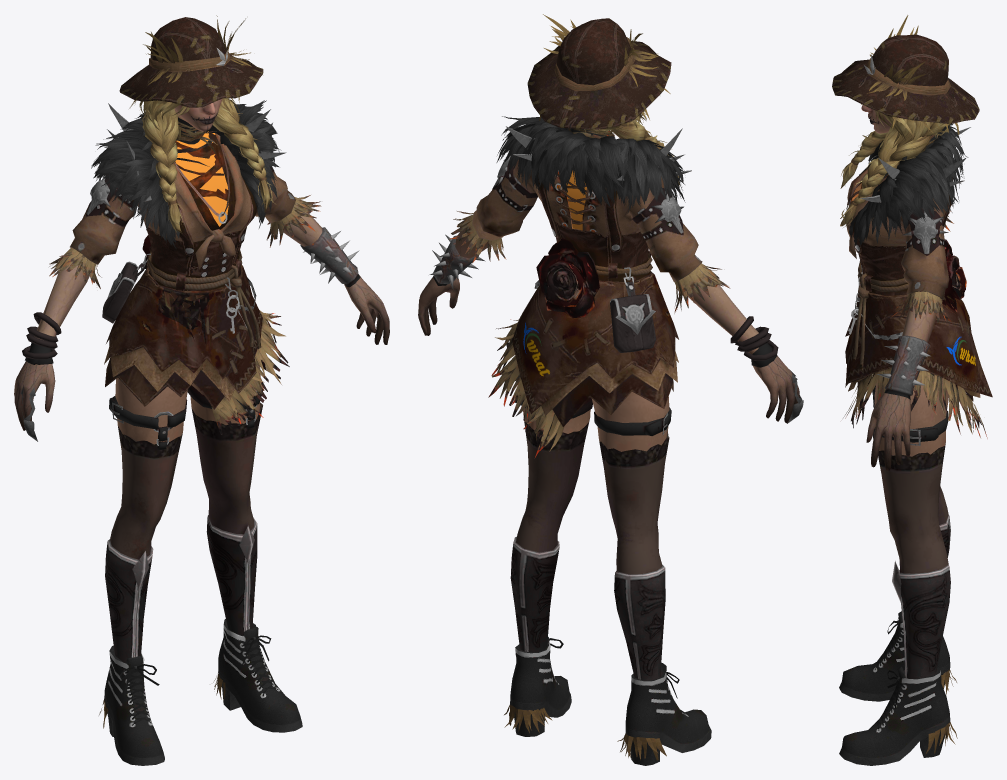
Rendered from Scarecrow Female.obj.
3 renders of one model, left to right at view 1: azimuth 30°, elevation 25°; view 2: azimuth 150°, elevation 25°; view 3: azimuth 270°, elevation 25°, orthographic. The views are drawn at different scales.
Visible parts, largest first — view 1: Female_Lobby_Bottom_Cos_Scarecrow, Female_Lobby_Top_Cos_Scarecrow, Female_Lobby_Hair_Cos_Scarecrow, Female_Lobby_Shoe_Cos_Scarecrow, Female_Lobby_Head_Sc_PartyGirl; view 2: Female_Lobby_Bottom_Cos_Scarecrow, Female_Lobby_Top_Cos_Scarecrow, Female_Lobby_Hair_Cos_Scarecrow, Female_Lobby_Shoe_Cos_Scarecrow; view 3: Female_Lobby_Bottom_Cos_Scarecrow, Female_Lobby_Top_Cos_Scarecrow, Female_Lobby_Hair_Cos_Scarecrow, Female_Lobby_Shoe_Cos_Scarecrow, Female_Lobby_Head_Sc_PartyGirl.
Part boxes in pixels (bbox=[...]): Female_Lobby_Bottom_Cos_Scarecrow: bbox=[104, 264, 289, 662]; Female_Lobby_Top_Cos_Scarecrow: bbox=[14, 100, 389, 441]; Female_Lobby_Hair_Cos_Scarecrow: bbox=[119, 15, 276, 233]; Female_Lobby_Shoe_Cos_Scarecrow: bbox=[99, 619, 302, 765]; Female_Lobby_Head_Sc_PartyGirl: bbox=[174, 99, 222, 131]; Female_Lobby_Bottom_Cos_Scarecrow: bbox=[488, 271, 678, 680]; Female_Lobby_Top_Cos_Scarecrow: bbox=[418, 116, 803, 423]; Female_Lobby_Hair_Cos_Scarecrow: bbox=[527, 14, 682, 186]; Female_Lobby_Shoe_Cos_Scarecrow: bbox=[504, 637, 711, 765]; Female_Lobby_Bottom_Cos_Scarecrow: bbox=[843, 283, 992, 678]; Female_Lobby_Top_Cos_Scarecrow: bbox=[846, 124, 970, 471]; Female_Lobby_Hair_Cos_Scarecrow: bbox=[832, 15, 979, 227]; Female_Lobby_Shoe_Cos_Scarecrow: bbox=[839, 611, 957, 765]; Female_Lobby_Head_Sc_PartyGirl: bbox=[861, 105, 891, 133].
Bounding box in the file's own units: 0.5453 × 0.9964 × 0.2107.
9 materials, 8 textured.
